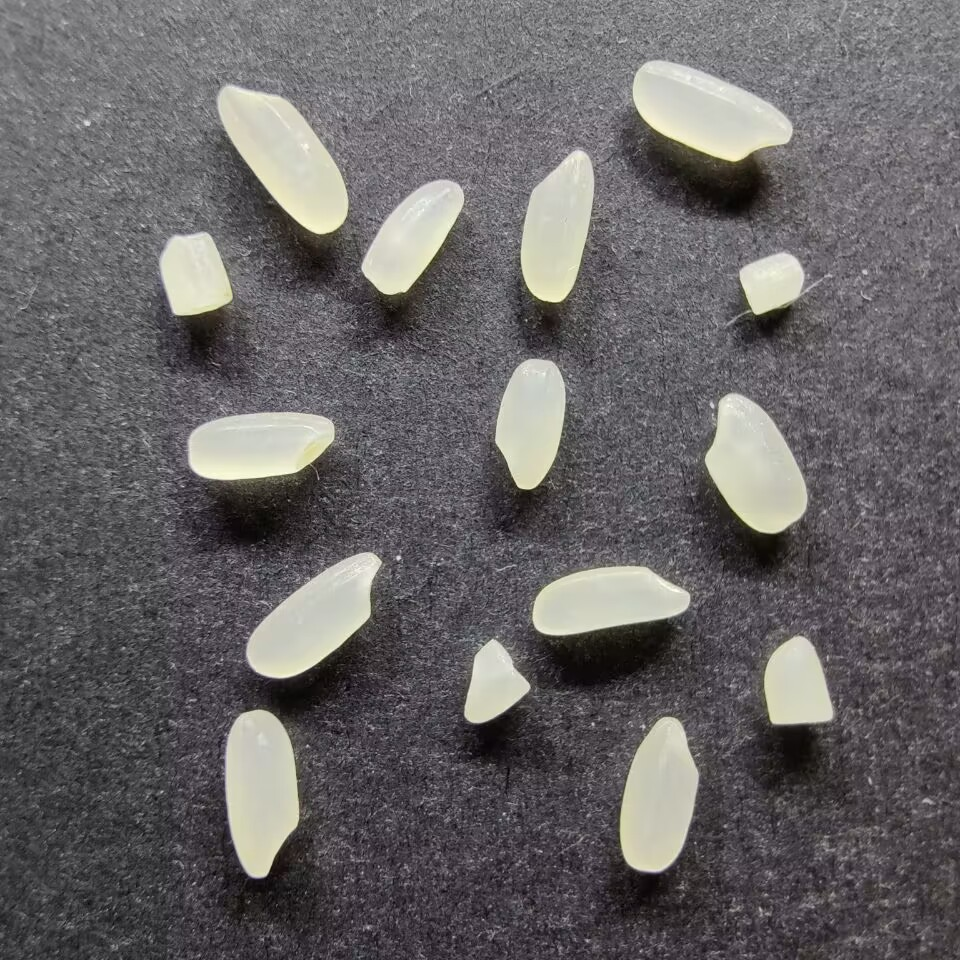broken: (761, 635, 835, 727), (459, 637, 535, 725), (158, 229, 233, 318), (736, 251, 806, 316)
rice: (214, 83, 347, 238), (244, 551, 382, 679), (630, 59, 794, 162), (702, 391, 809, 534), (222, 708, 301, 881), (617, 714, 701, 874), (359, 178, 465, 296), (518, 149, 595, 303), (530, 564, 692, 636), (185, 410, 336, 480), (492, 356, 567, 491)
